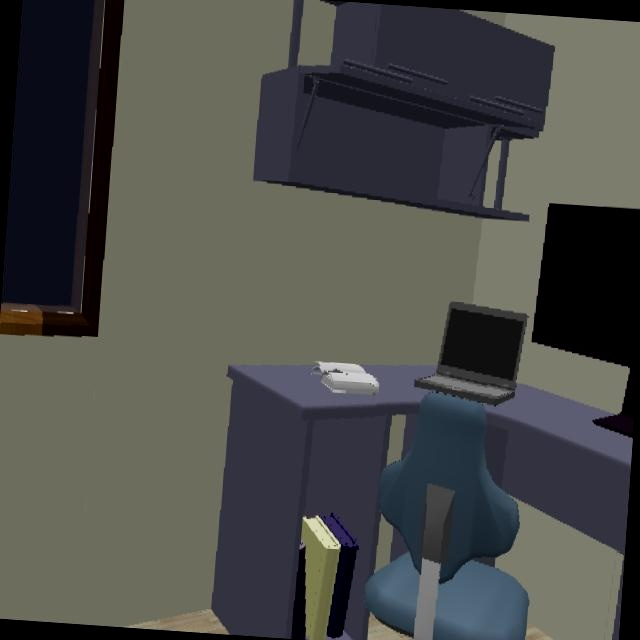book: (292, 513, 357, 640), (312, 361, 377, 393)
chair: (364, 392, 527, 640)
laptop: (414, 303, 528, 405)
monitor: (532, 204, 640, 437)
shelf: (253, 0, 551, 220)
table: (212, 365, 434, 640), (486, 384, 631, 552)
